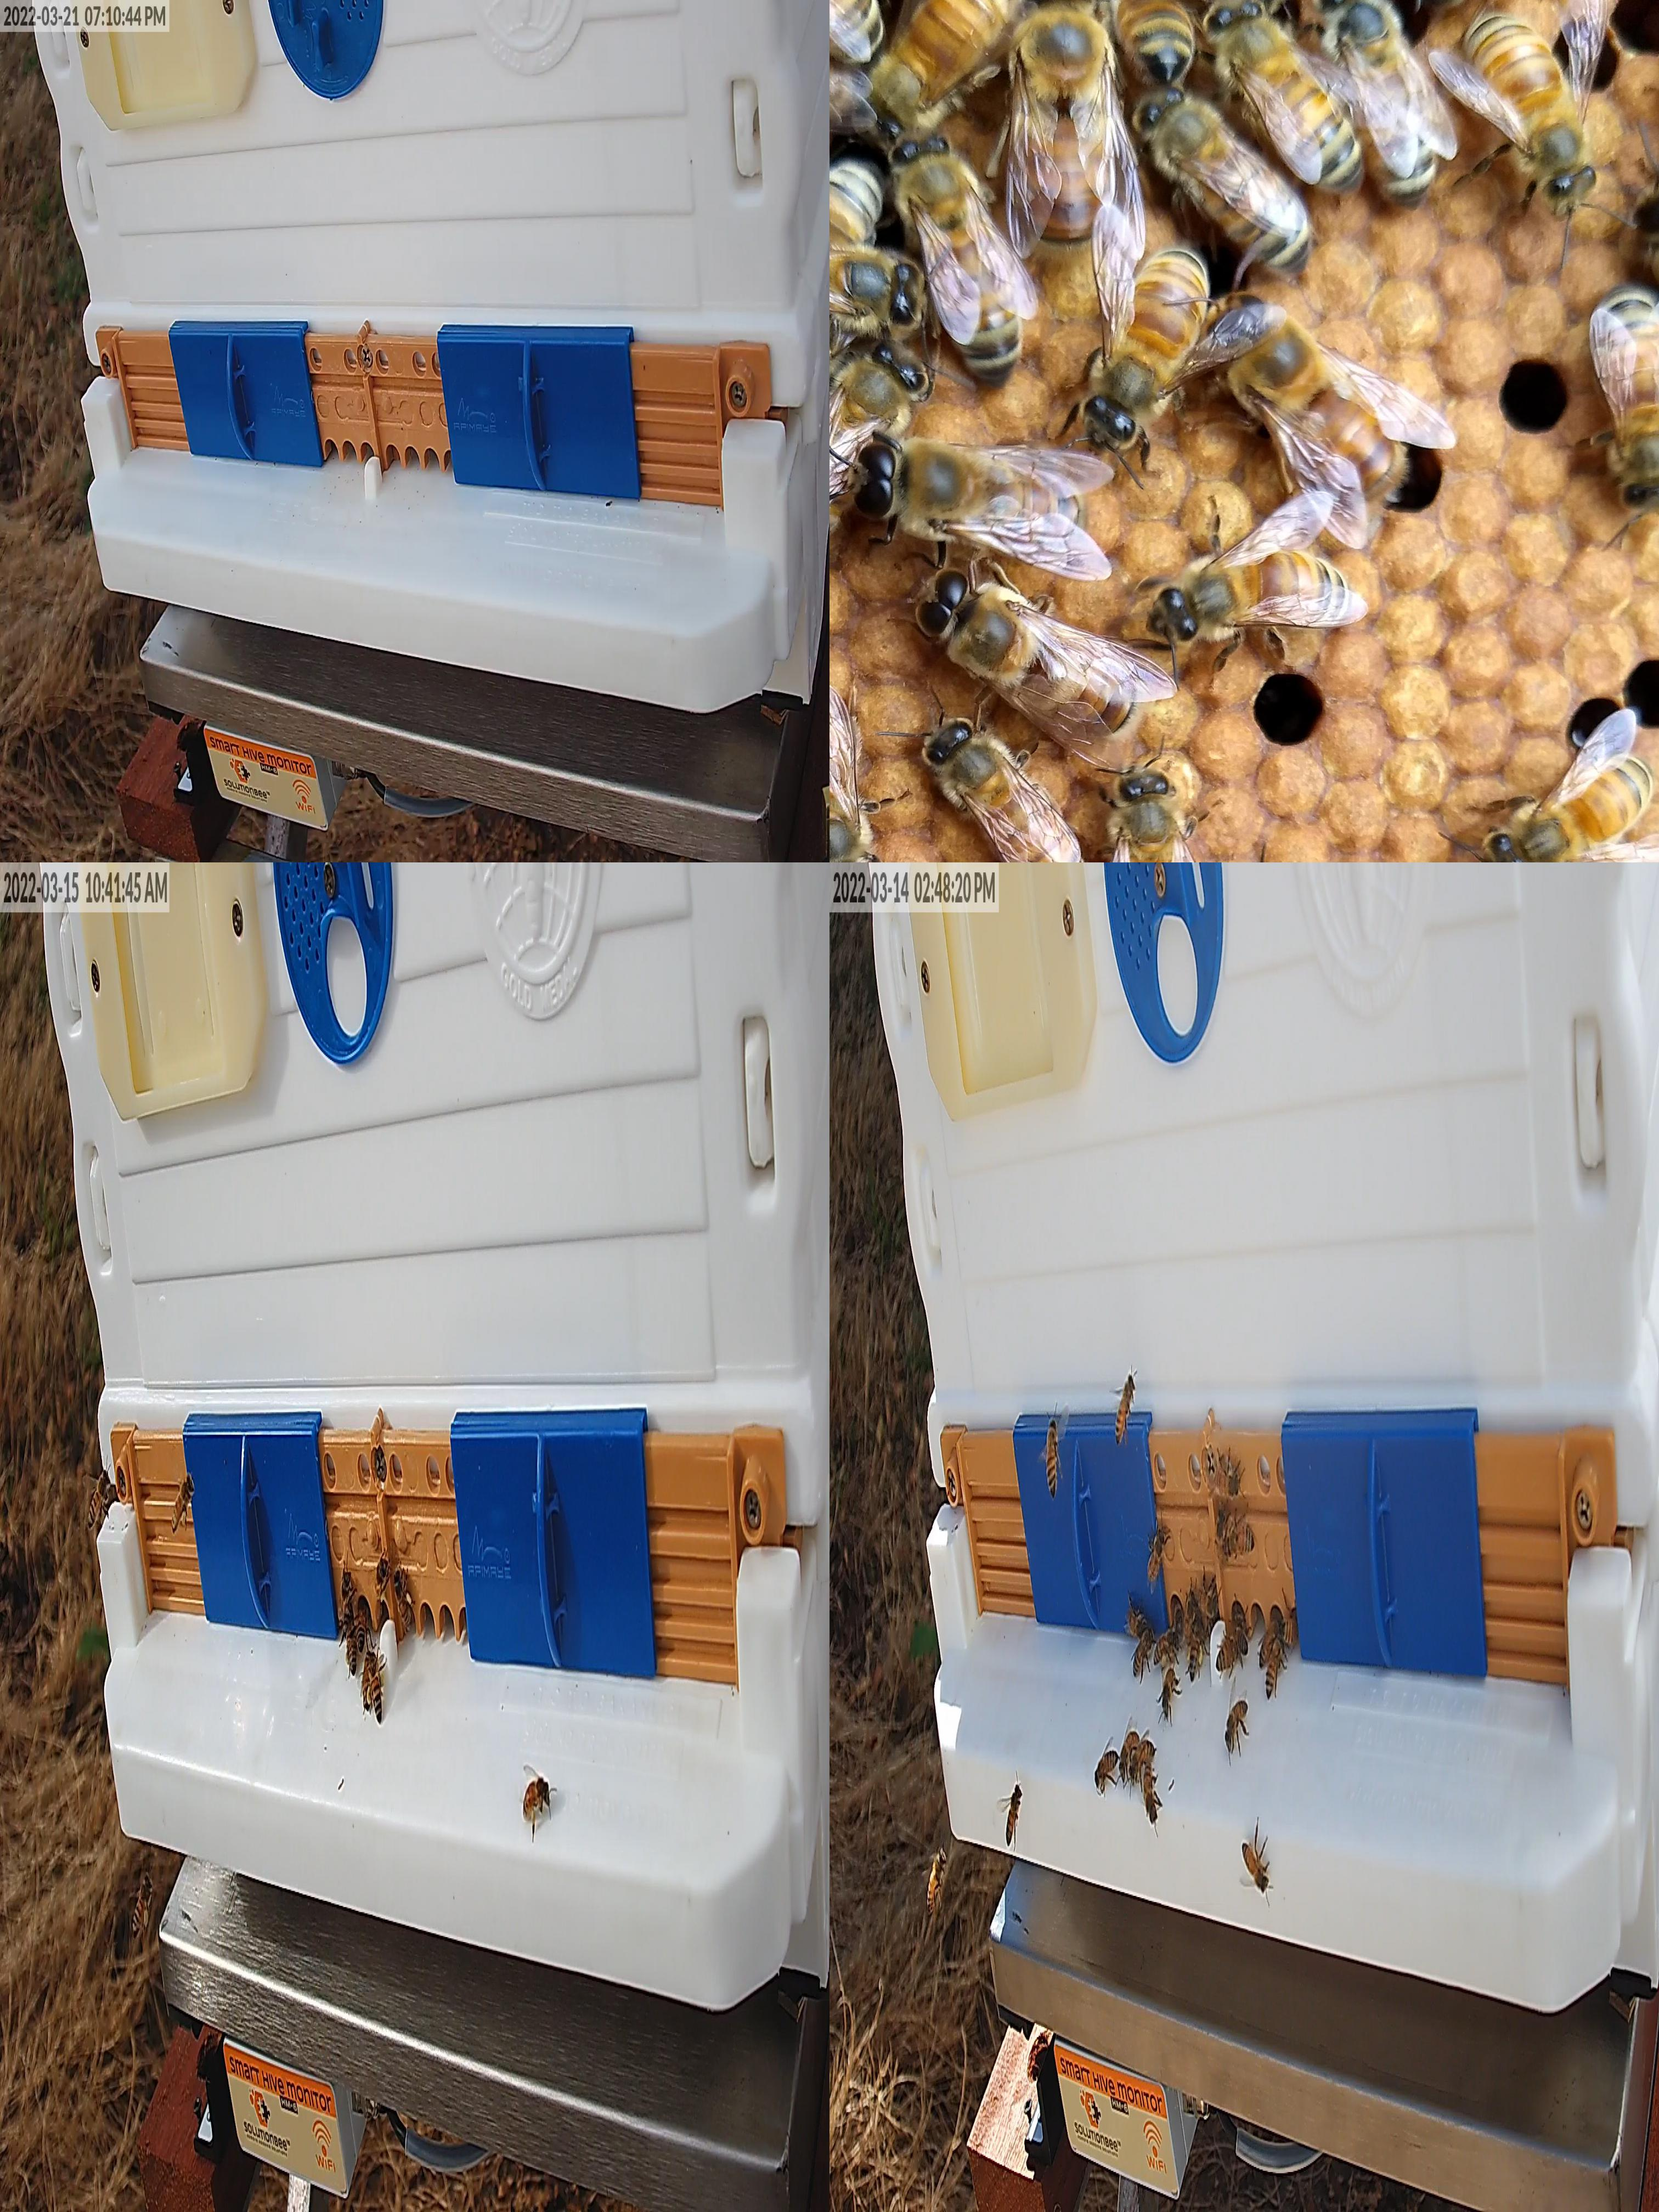bee: (890, 138, 1025, 383), (1136, 91, 1307, 265), (1209, 0, 1364, 188), (1316, 0, 1434, 207), (1467, 14, 1596, 199), (1087, 247, 1208, 444), (920, 723, 1087, 862), (868, 0, 1023, 138), (830, 345, 918, 557), (1486, 756, 1649, 862), (1155, 552, 1351, 639), (1595, 289, 1659, 510), (830, 158, 887, 296), (830, 678, 871, 862), (1110, 773, 1190, 862), (830, 251, 922, 326), (1112, 0, 1195, 75), (830, 286, 880, 376), (1115, 1376, 1134, 1447), (1243, 1839, 1269, 1890), (1265, 1632, 1284, 1698), (89, 1468, 110, 1526), (1260, 1616, 1283, 1669), (927, 1850, 945, 1916), (1225, 1702, 1248, 1749), (1119, 1731, 1140, 1780), (1134, 1627, 1154, 1679), (1046, 1418, 1058, 1498), (1131, 1740, 1155, 1778), (1094, 1750, 1119, 1787), (1147, 1527, 1164, 1576), (1007, 1784, 1021, 1843), (1215, 1508, 1230, 1557), (1145, 1759, 1157, 1822), (1183, 1592, 1197, 1641), (1216, 1468, 1239, 1498), (340, 1571, 352, 1625), (1216, 1639, 1237, 1670), (1230, 1527, 1255, 1554), (1154, 1635, 1176, 1663), (1162, 1669, 1175, 1717), (361, 1656, 371, 1709), (1281, 1615, 1298, 1646), (1197, 1585, 1216, 1613), (347, 1627, 357, 1676), (1127, 1611, 1147, 1637), (1234, 1592, 1246, 1629), (1234, 1625, 1248, 1656), (357, 1602, 366, 1651), (1175, 1599, 1183, 1637)
drone: (1215, 293, 1396, 502), (920, 573, 1134, 735), (1018, 0, 1115, 242), (859, 439, 1084, 543)
pollenbee: (171, 1475, 195, 1529), (366, 1646, 383, 1721), (132, 1871, 152, 1937), (525, 1775, 549, 1824), (394, 1571, 413, 1629), (1187, 1623, 1206, 1679), (371, 1554, 387, 1616)
